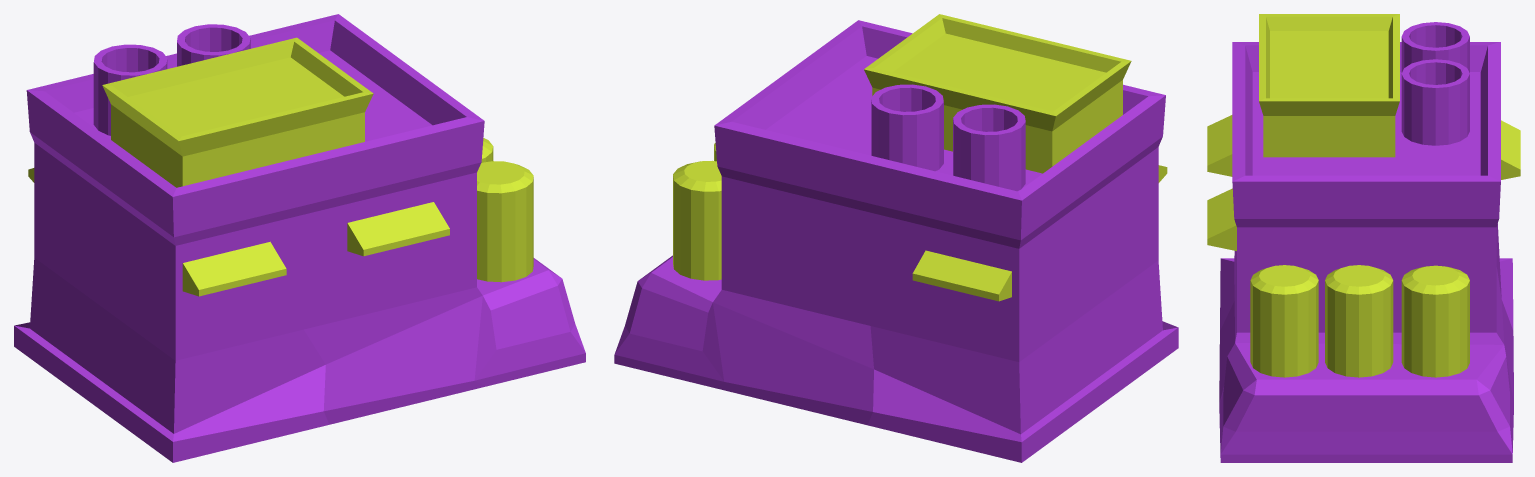
File: 6_tile_factory.fbx
The picture shows the model from 3 angles, left to right: view 1: azimuth 30°, elevation 25°; view 2: azimuth 150°, elevation 25°; view 3: azimuth 270°, elevation 25°; orthographic projection. The views are drawn at different scales.
Visible parts, largest first — view 1: Cube.002; view 2: Cube.002; view 3: Cube.002.
Part boxes in pixels (x1,y1,x2,y2): Cube.002: (14,14,585,462); Cube.002: (614,14,1178,462); Cube.002: (1207,14,1520,462).
Size of the model in its own units: 288 by 200 by 206.
